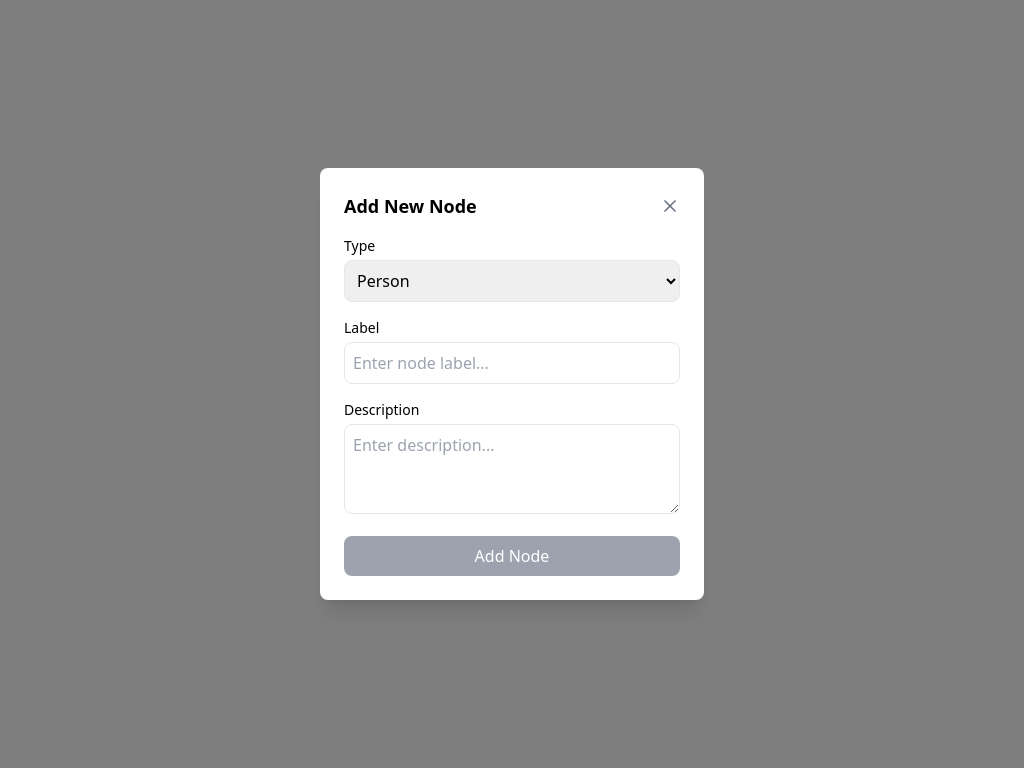
it: AddNodeModal › Submit button state › should enable submit button when label is provided
Type "Test Label" into the field with placeholder "Enter node label..." at (512, 363), box [344, 342, 680, 384]
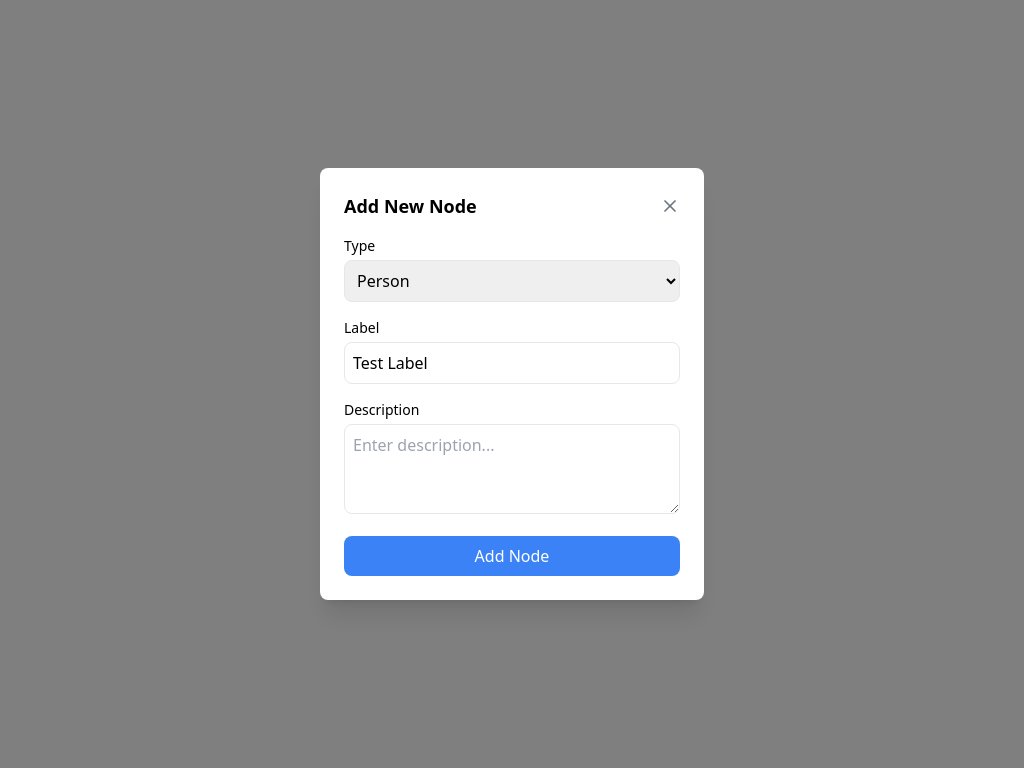
Result: the button "Add Node" is enabled at [344, 536, 680, 576]
